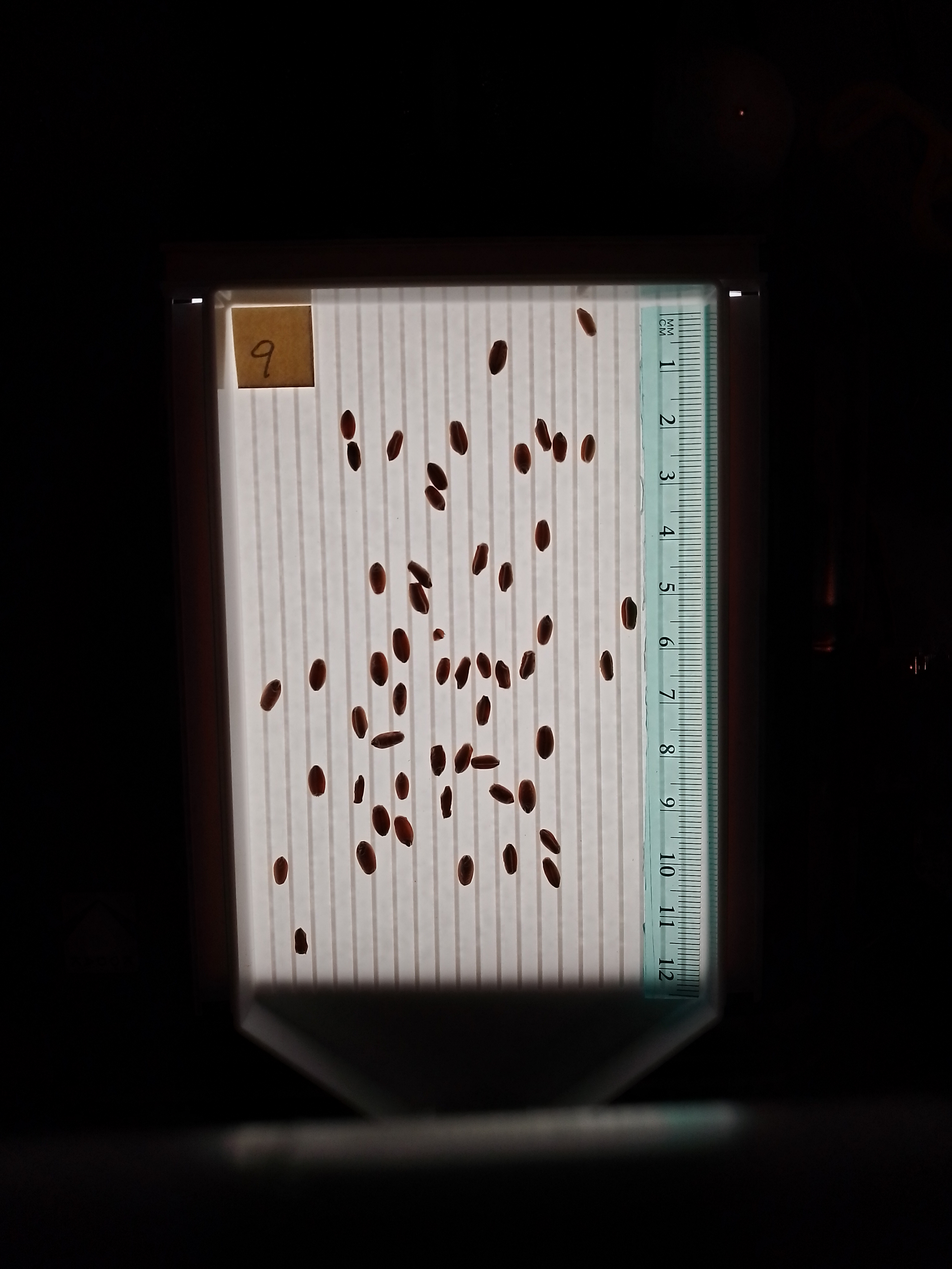seed mask: (488, 340, 507, 375), (409, 583, 429, 614), (261, 680, 281, 711), (449, 421, 467, 455), (357, 842, 376, 874), (393, 629, 410, 663), (308, 765, 326, 797), (409, 562, 431, 588), (394, 816, 413, 846), (372, 805, 390, 836), (370, 653, 387, 685), (537, 726, 554, 758), (519, 780, 536, 812), (514, 444, 532, 474), (369, 563, 386, 594), (577, 309, 596, 336), (622, 598, 638, 630), (387, 431, 404, 461), (309, 660, 326, 690), (454, 744, 472, 772), (425, 486, 445, 511), (535, 520, 551, 551), (472, 544, 488, 575), (352, 707, 368, 738), (372, 732, 403, 748), (427, 464, 446, 490), (539, 830, 560, 853), (458, 855, 474, 885), (543, 859, 560, 887), (536, 419, 551, 450), (431, 745, 446, 775), (537, 616, 553, 644), (491, 784, 513, 804), (552, 433, 567, 462), (503, 845, 518, 874), (580, 436, 596, 463), (340, 411, 355, 439), (599, 652, 614, 680), (520, 651, 535, 679), (393, 684, 407, 714), (472, 754, 498, 770), (499, 563, 513, 592), (476, 696, 490, 725), (273, 857, 288, 884), (347, 443, 361, 471), (495, 662, 510, 688), (456, 658, 469, 688), (436, 658, 450, 684), (395, 774, 409, 799), (294, 929, 307, 954), (477, 654, 491, 677), (441, 788, 452, 817), (354, 777, 364, 803), (433, 628, 444, 640)
